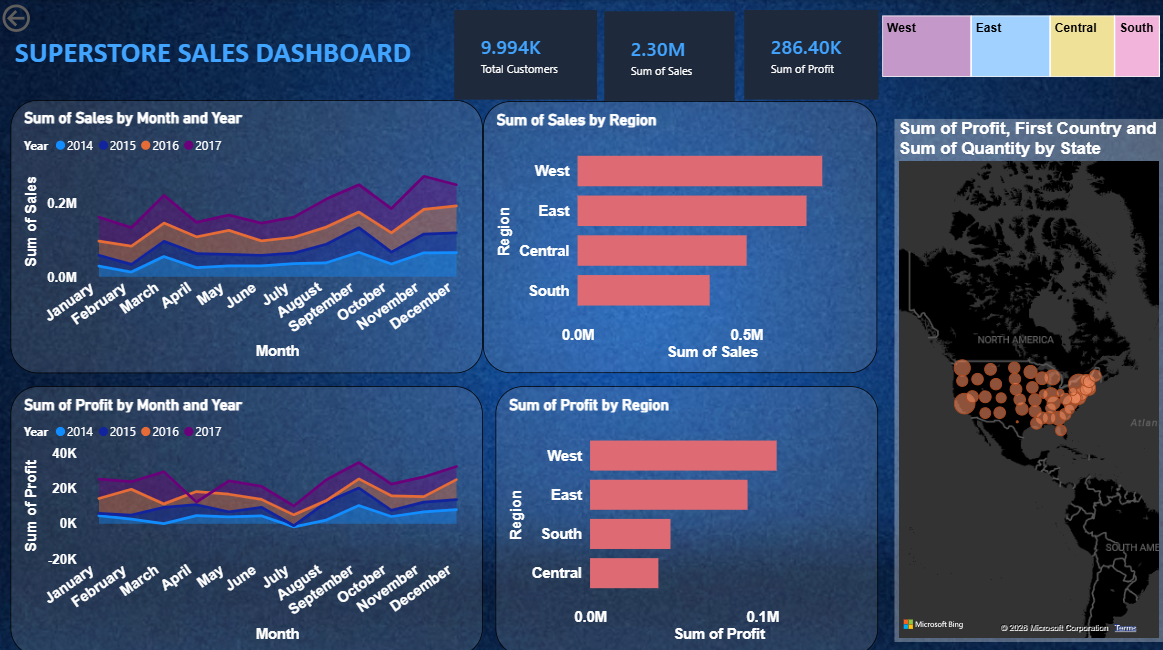

This screenshot's page, from the dashboard's own definition file:
{"tool":"powerbi","page":{"name":"Page 2","canvas":[1280,720],"ordinal":1},"visuals":[{"type":"textbox","box":[14.3,32.9,565.7,57.1],"z":0},{"type":"barChart","fields":{"Y":["Sum(Sample - Superstore.Profit)"],"Category":["Sample - Superstore.Region"]},"box":[545.7,424.3,420,295.7],"z":1000},{"type":"stackedAreaChart","fields":{"Category":["Sample - Superstore.Order Date.Variation.Date Hierarchy.Month"],"Y":["Sum(Sample - Superstore.Sales)"],"Series":["Sample - Superstore.Order Date.Variation.Date Hierarchy.Year"]},"box":[14.3,110,518.6,300],"z":2000},{"type":"stackedAreaChart","fields":{"Category":["Sample - Superstore.Order Date.Variation.Date Hierarchy.Month"],"Series":["Sample - Superstore.Order Date.Variation.Date Hierarchy.Year"],"Y":["Sum(Sample - Superstore.Profit)"]},"box":[14.3,424.3,518.6,295.7],"z":3000},{"type":"map","fields":{"Category":["Sample - Superstore.State"],"Size":["Sum(Sample - Superstore.Profit)"]},"box":[984.3,130,295.7,574.3],"z":4000},{"type":"actionButton","box":[0,0,100,40],"z":5000},{"type":"barChart","fields":{"Category":["Sample - Superstore.Region"],"Y":["Sum(Sample - Superstore.Sales)"]},"box":[532.9,111.4,432.9,298.6],"z":6000},{"type":"treemap","fields":{"Group":["Sample - Superstore.Region"],"Values":["CountNonNull(Sample - Superstore.City)"]},"box":[965.7,12.9,314.3,77.1],"z":7000},{"type":"cardVisual","fields":{"Data":["CountNonNull(Sample - Superstore.Customer ID)"]},"box":[501.4,11.4,157.1,98.6],"z":8000},{"type":"cardVisual","fields":{"Data":["Sum(Sample - Superstore.Sales)"]},"box":[665.7,12.9,142.9,98.6],"z":9000},{"type":"cardVisual","fields":{"Data":["Sum(Sample - Superstore.Profit)"]},"box":[818.6,11.4,147.1,98.6],"z":10000}]}

Visuals, with their boxes in screenshot pixels (x1, y1, x2, y2), scaled from the page's 1280x720 canvas onto the 1163x650 screenshot:
textbox: [13,30,527,81]
barChart - Sum(Sample - Superstore.Profit) x Sample - Superstore.Region: [496,383,877,649]
stackedAreaChart - Sample - Superstore.Order Date.Variation.Date Hierarchy.Month x Sum(Sample - Superstore.Sales): [13,99,484,370]
stackedAreaChart - Sample - Superstore.Order Date.Variation.Date Hierarchy.Month x Sample - Superstore.Order Date.Variation.Date Hierarchy.Year: [13,383,484,649]
map - Sample - Superstore.State x Sum(Sample - Superstore.Profit): [894,117,1162,636]
actionButton: [0,0,91,36]
barChart - Sample - Superstore.Region x Sum(Sample - Superstore.Sales): [484,101,878,370]
treemap - Sample - Superstore.Region x CountNonNull(Sample - Superstore.City): [877,12,1162,81]
cardVisual - CountNonNull(Sample - Superstore.Customer ID): [456,10,598,99]
cardVisual - Sum(Sample - Superstore.Sales): [605,12,735,101]
cardVisual - Sum(Sample - Superstore.Profit): [744,10,877,99]
